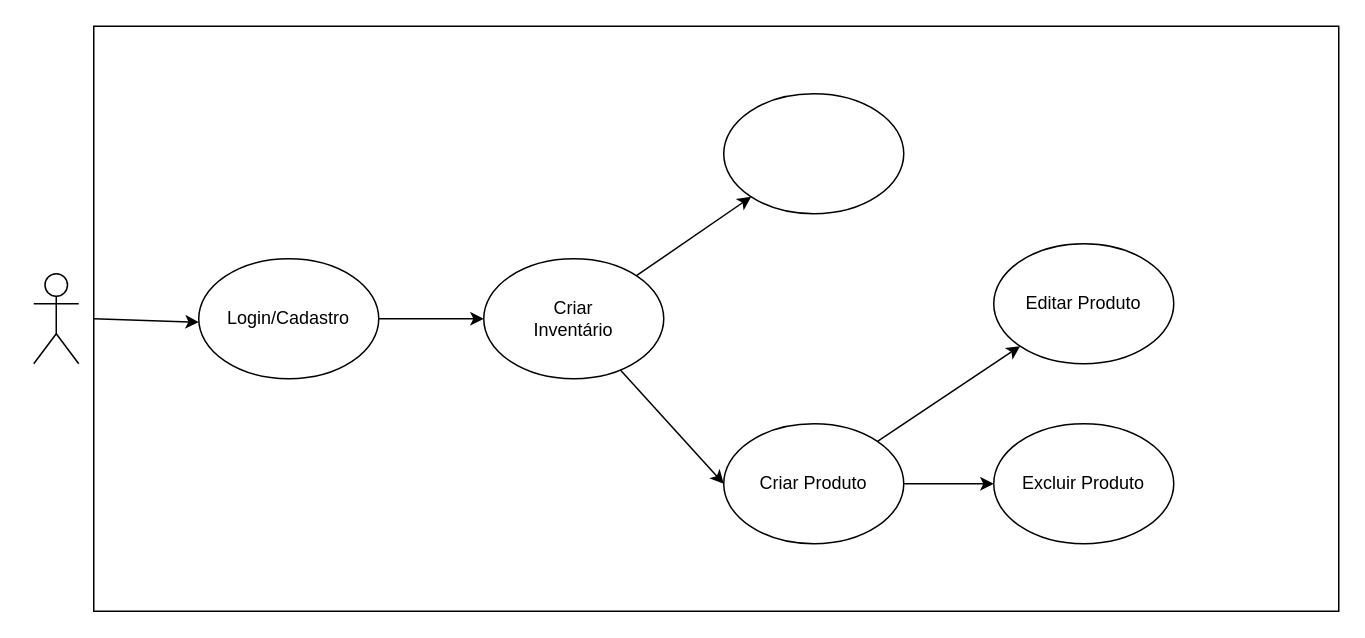
This 1365x638 diagram has some shape labels left out. Here are the shapes that lost their labels. From the top down, the centre of each, then its label:
pixel 813 153: Excluir Inventário
pixel 55 318: Usuário
